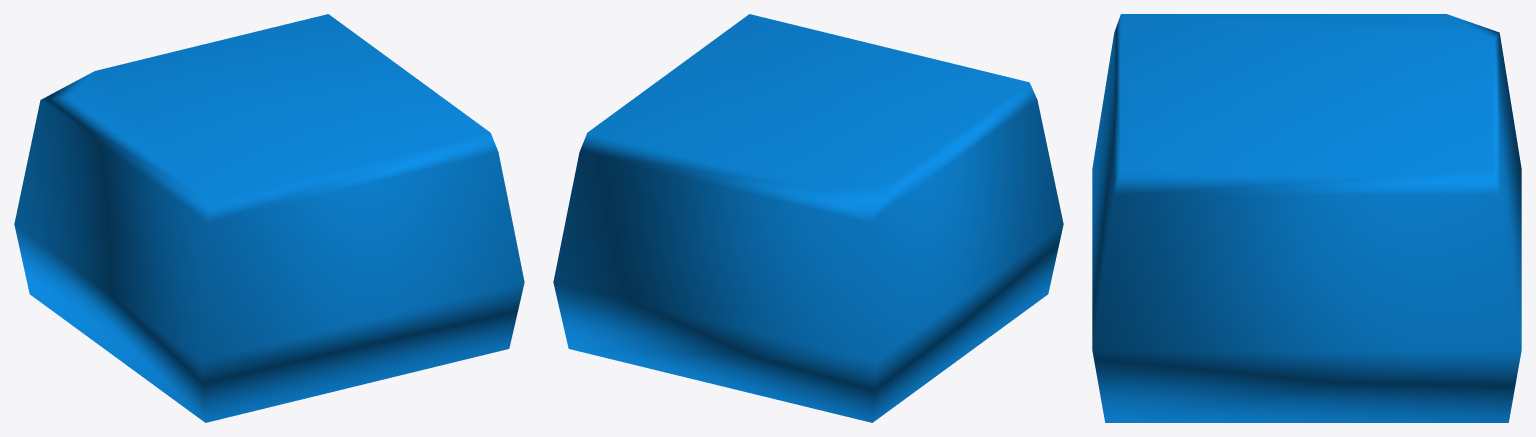
File: Wood_Pillar_Base.fbx
3 renders of one model, left to right at view 1: azimuth 30°, elevation 25°; view 2: azimuth 150°, elevation 25°; view 3: azimuth 270°, elevation 25°, orthographic. The views are drawn at different scales.
Visible parts, largest first — view 1: Wood_Pillar_Base; view 2: Wood_Pillar_Base; view 3: Wood_Pillar_Base.
Part boxes in pixels (x1,y1,x2,y2): Wood_Pillar_Base: (14, 14, 524, 422); Wood_Pillar_Base: (553, 14, 1063, 422); Wood_Pillar_Base: (1092, 14, 1521, 422).
Bounding box in the file's own units: 47 × 29.74 × 47.13.
